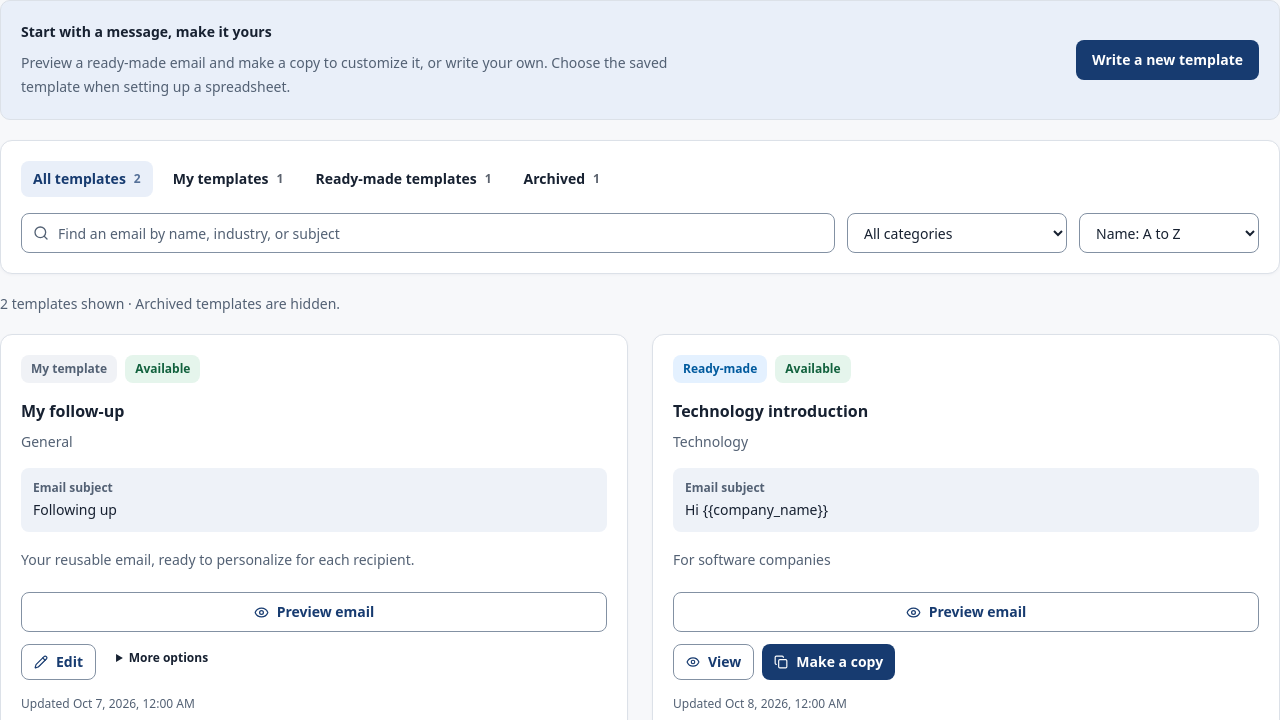
Test: template library › searches subjects, filters categories, and recovers from no matches
Type "Following" into the field named "Search templates" at (428, 233), box x1=21 y1=213 x2=835 y2=253
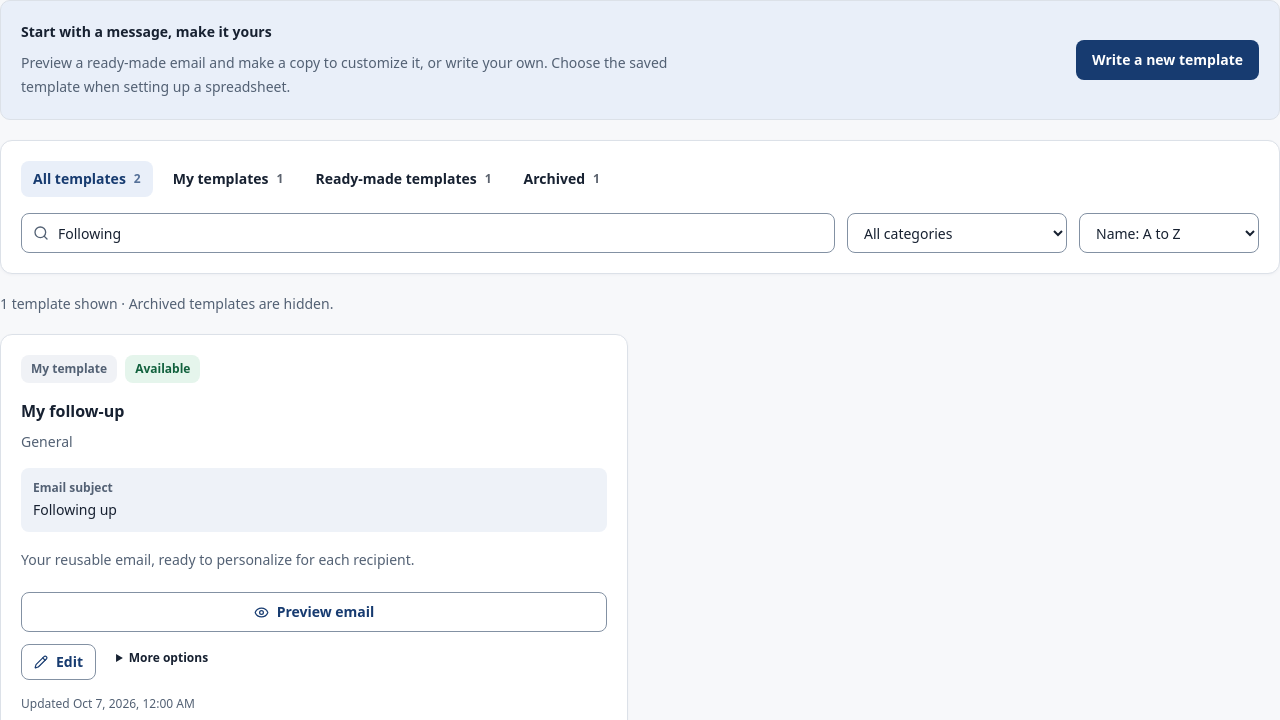
Check: the heading "My follow-up" is shown, box x1=21 y1=400 x2=124 y2=422
Select "Technology" in the dropdown named "Template category" at (957, 233), box x1=847 y1=213 x2=1067 y2=253
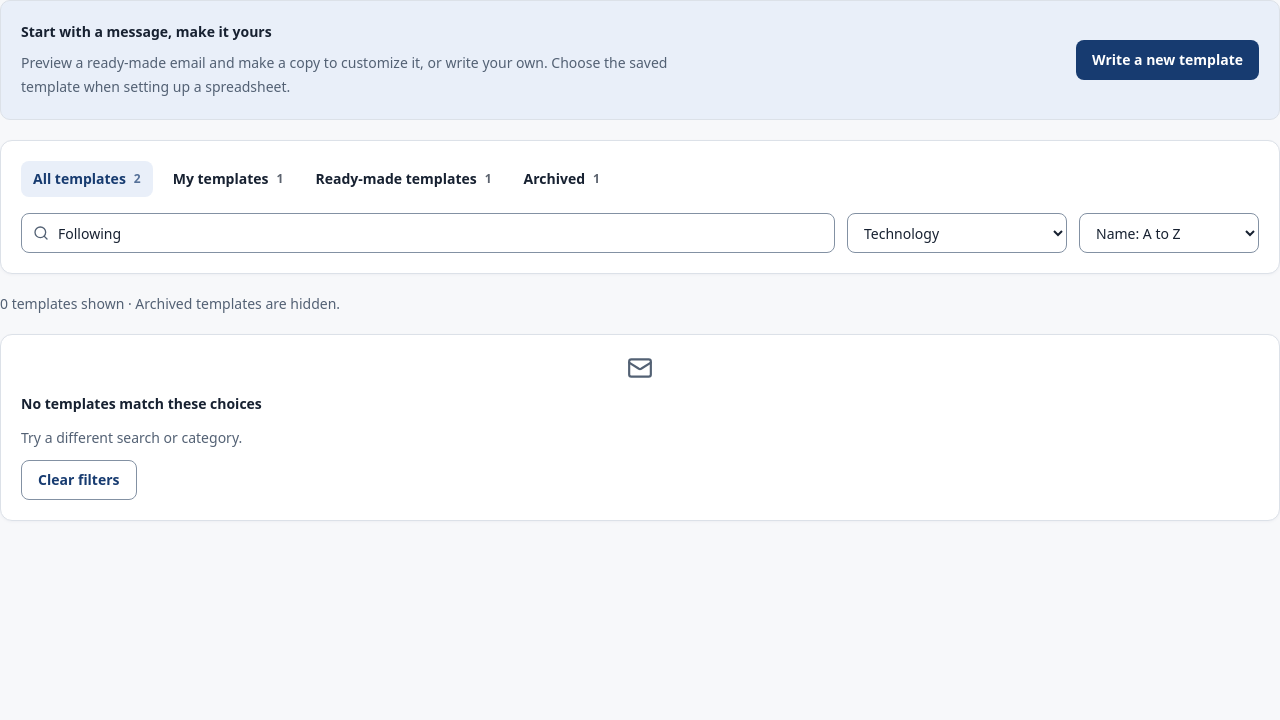
Check: the heading "No templates match these choices" is shown, box x1=21 y1=394 x2=262 y2=413
Click the button "Clear filters" at (79, 480), box x1=21 y1=460 x2=136 y2=500
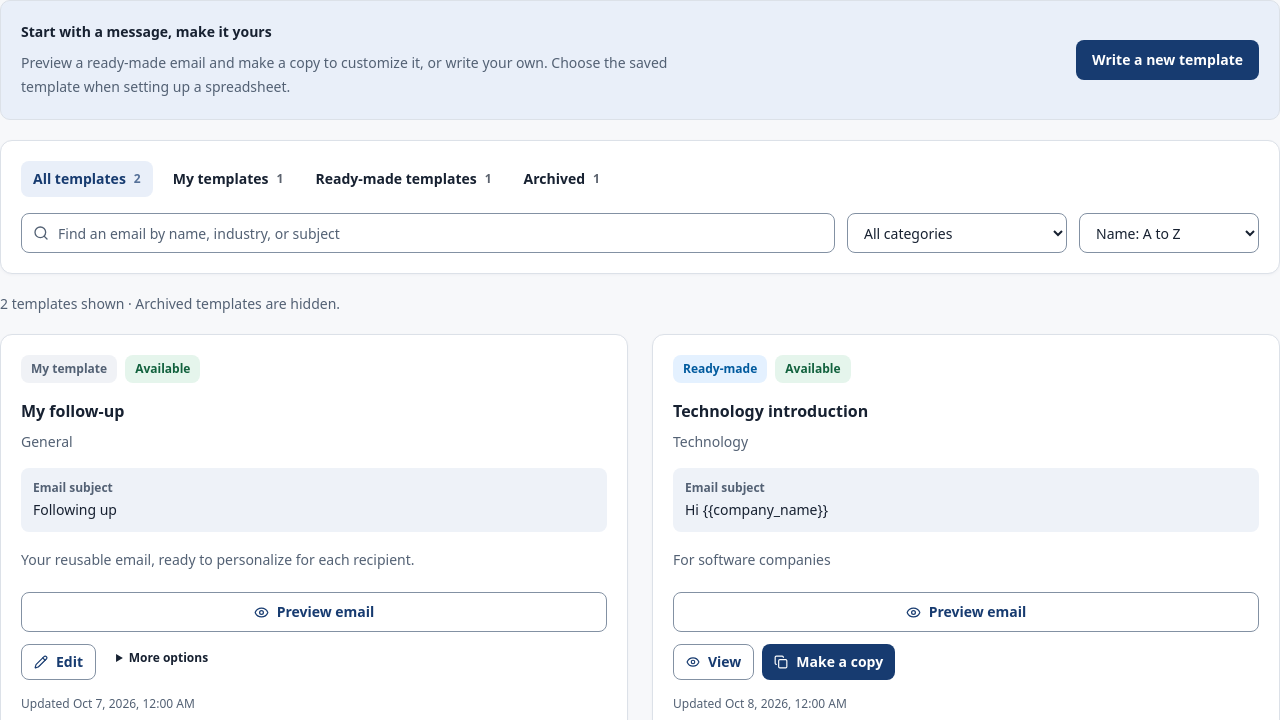
Check: the heading "Technology introduction" is shown, box x1=673 y1=400 x2=868 y2=422
